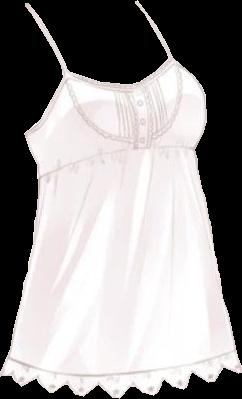Bodice: (0, 59, 241, 397)
Neckline: (62, 59, 182, 142), (6, 343, 236, 379), (37, 145, 199, 179), (63, 58, 172, 86)
Waistline: (0, 365, 241, 398)
